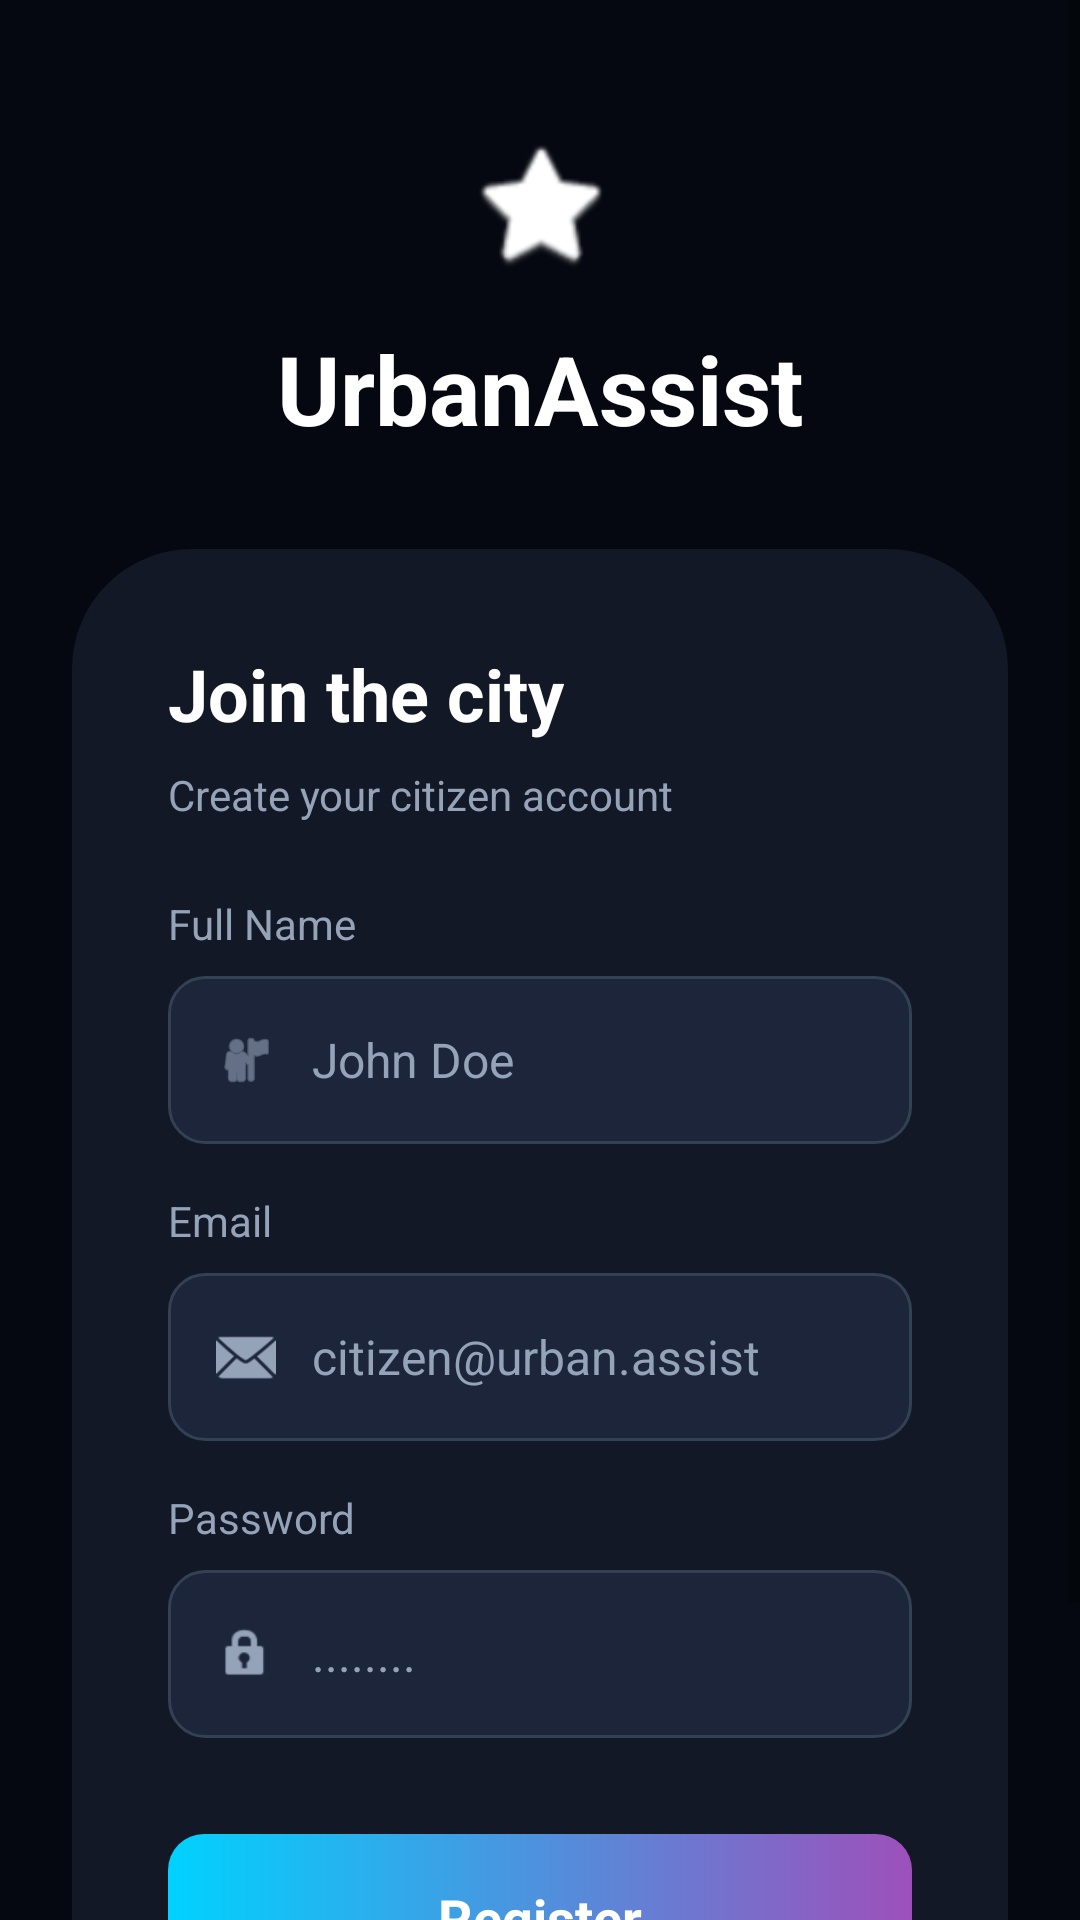

Icon click points for this 1080 × 1920 phone screenshot, format (x,y):
star on: (541,205)
